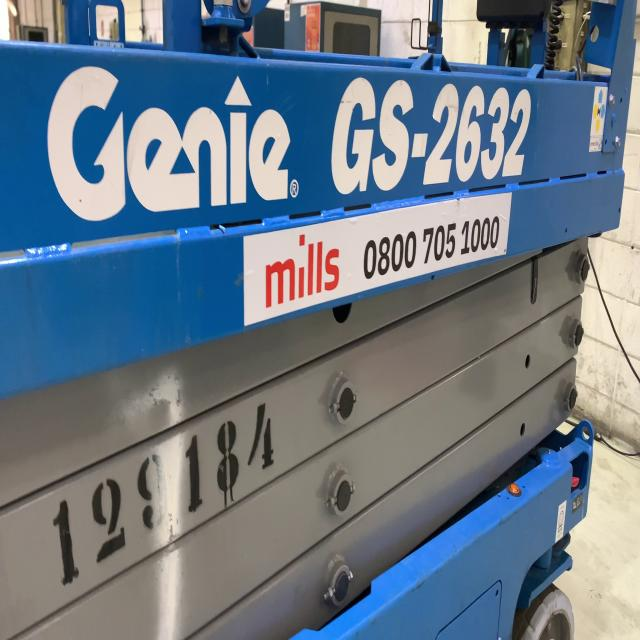Adesivo Longo: (241, 190, 514, 330)
